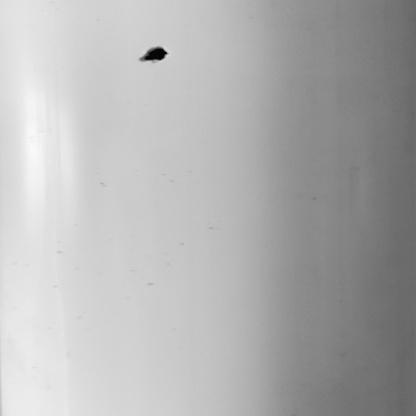kongdong: (133, 40, 174, 65)
